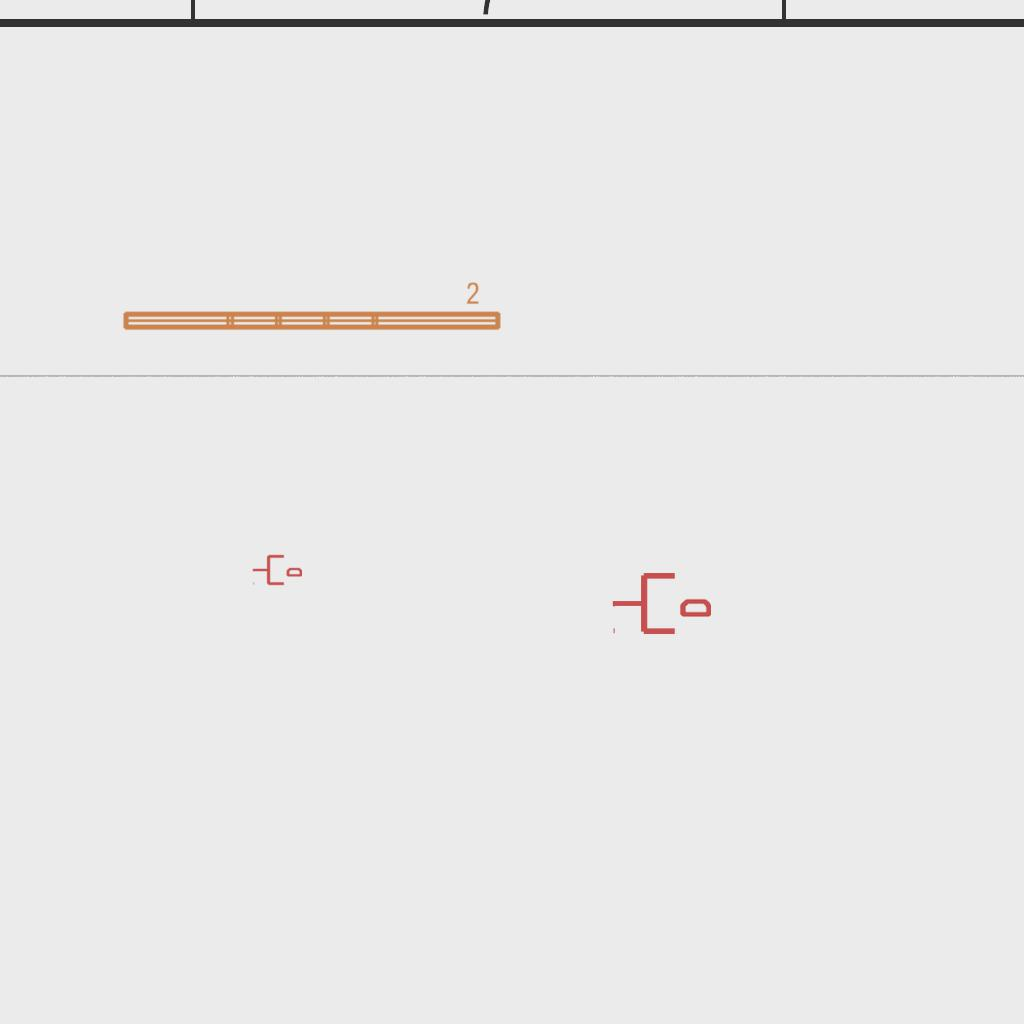Ambulanz_Pendelleuchte_LED: (118, 280, 505, 336)
Datenanschluss_einfach: (611, 569, 711, 638), (252, 553, 302, 587)
